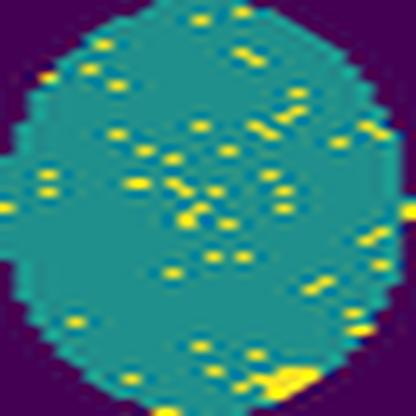Edge-Loc: (244, 353, 326, 411)
